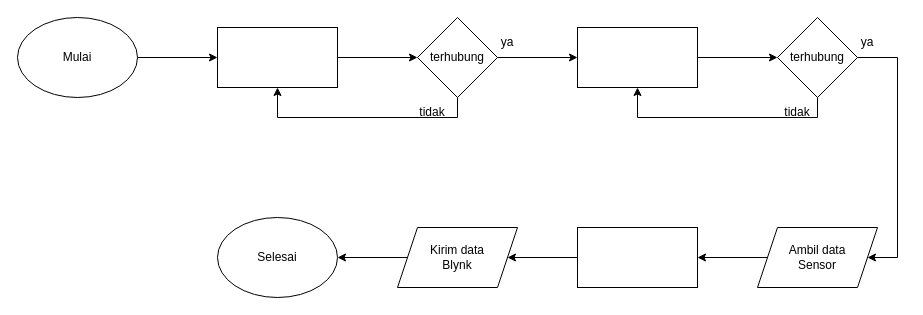
This 923x315 diagram has some shape labels left out. Here are the shapes that lost their labels. From the top down, the centre of each, then its label:
At pixel 277 57: "Menghubungkan WIFI".
At pixel 637 57: "Menghubungkan Blynk".
At pixel 637 257: "Eksekusi Program".
